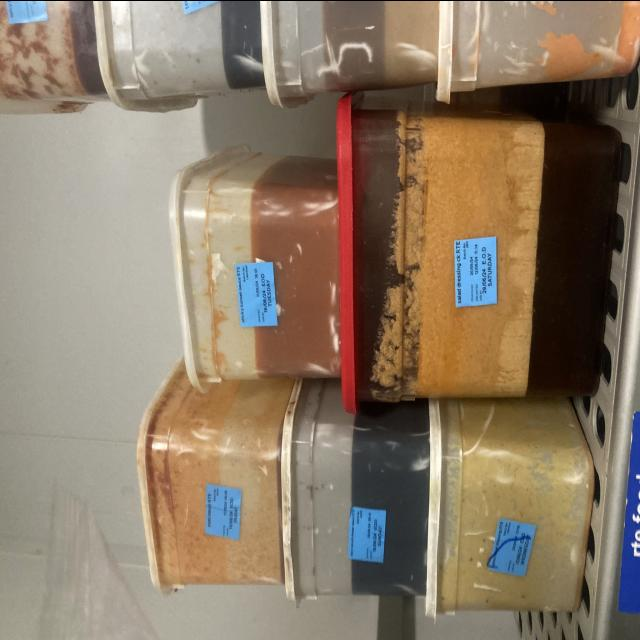product-labels: (454, 233, 499, 307), (235, 260, 279, 327), (490, 516, 538, 574), (347, 504, 387, 562), (205, 483, 242, 538)
